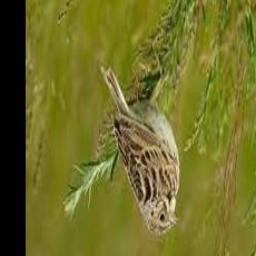Sparrow: (99, 64, 180, 235)
